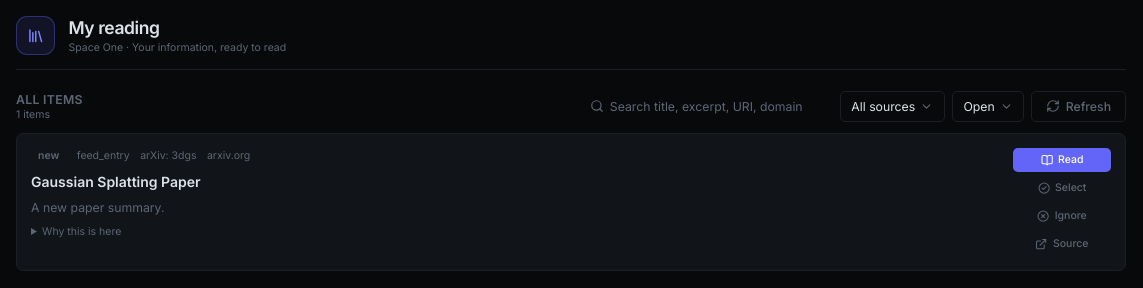
Test: LibraryPage › keeps the latest search answer when an earlier query answers later
This screenshot has width=1143, height=288.
expect the link "Gaussian Splatting Paper" is shown: met, box x1=31 y1=173 x2=201 y2=190
Step 1. Type "r" into the field with placeholder "Search title, excerpt, URI, domain" → (707, 106), box x1=581 y1=90 x2=833 y2=122
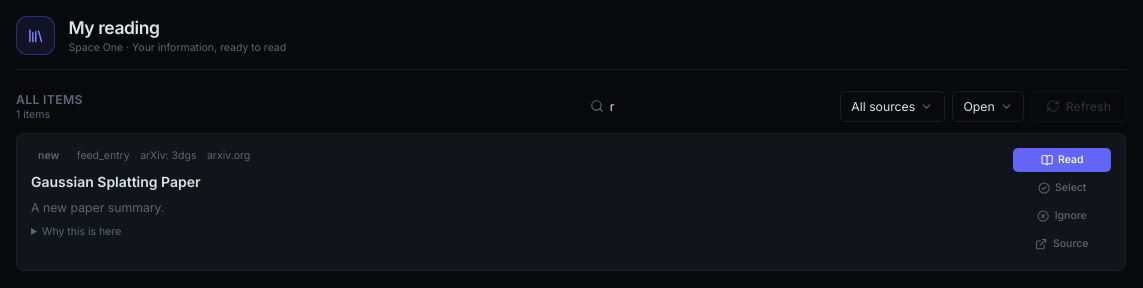
Step 2. Replace the text in the field with placeholder "Search title, excerpt, URI, domain" with "ru" → (707, 106), box x1=581 y1=90 x2=833 y2=122
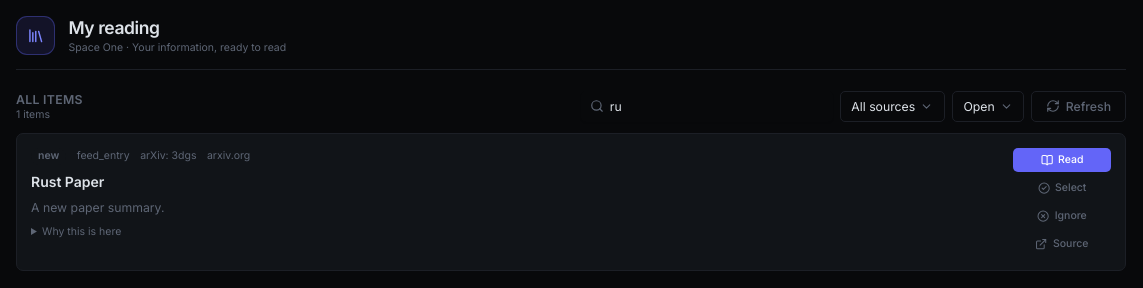
expect the text "1 items" is shown: met, box x1=16 y1=108 x2=50 y2=121
expect the link "Rust Paper" is shown: met, box x1=31 y1=173 x2=104 y2=190
